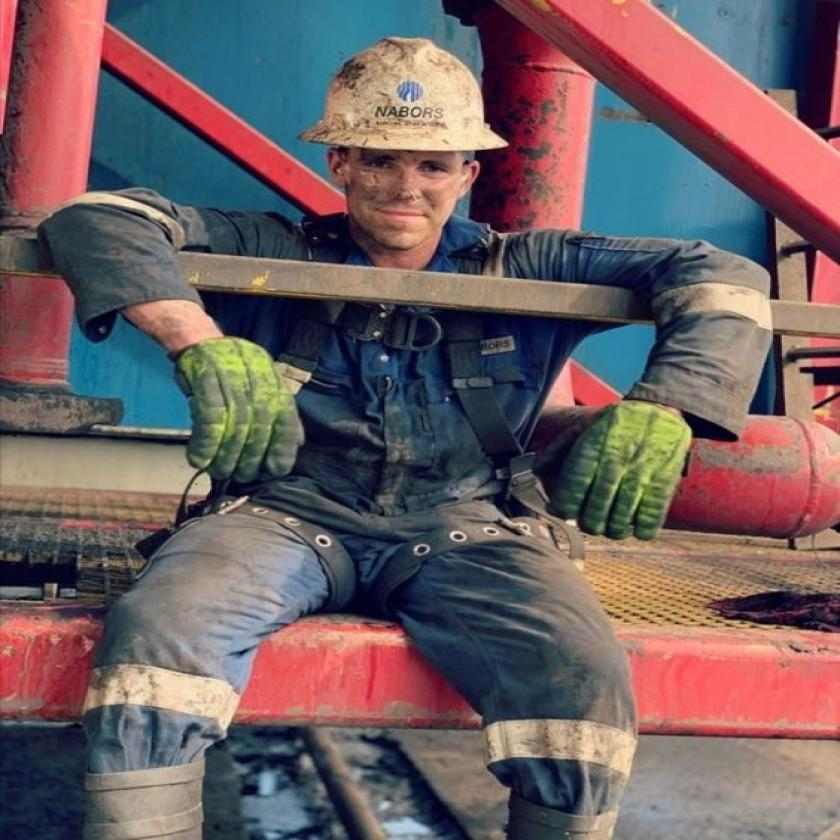Con_casco: (284, 16, 516, 270)
